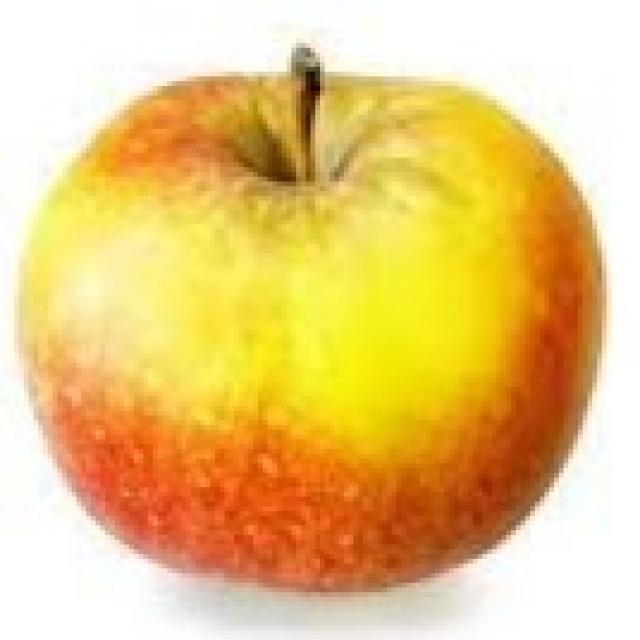75-_ripeness: (25, 75, 608, 594)
